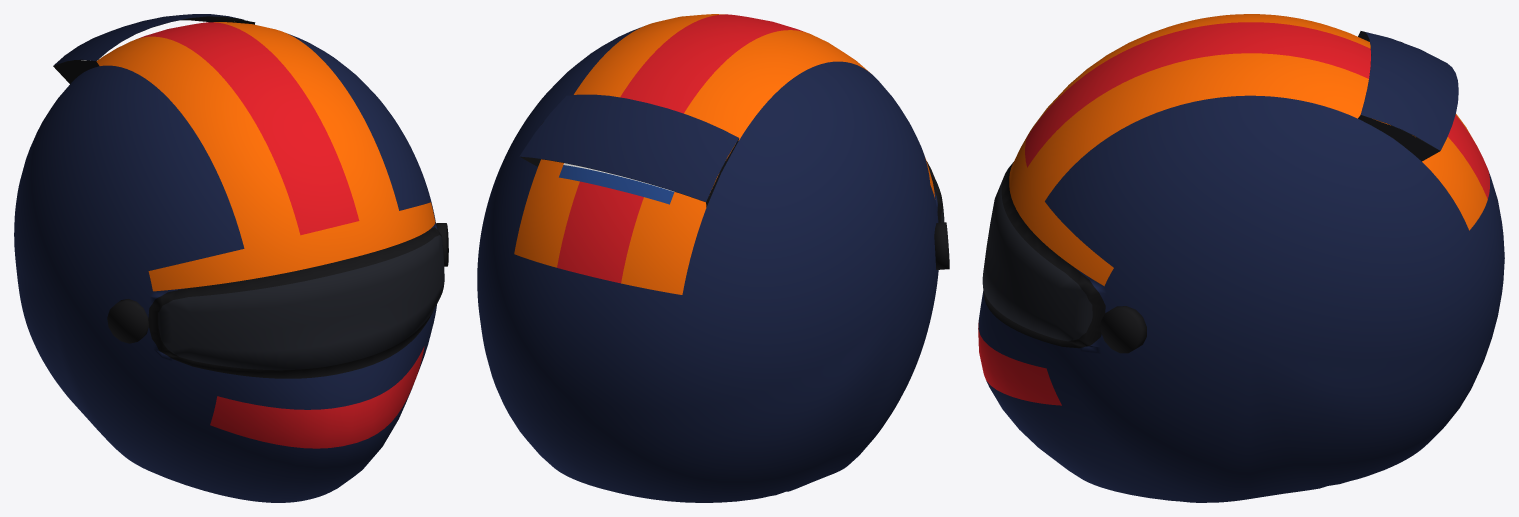
Rendered from VER.glb.
3 views of the same model, side by side, from view 1: azimuth 30°, elevation 25°; view 2: azimuth 150°, elevation 25°; view 3: azimuth 270°, elevation 25° (orthographic). The views are drawn at different scales.
Visible parts, largest first — view 1: helmet; view 2: helmet; view 3: helmet.
Boxes of the visible parts, x1,y1,x2,y2 form: helmet: (14, 14, 448, 502); helmet: (477, 14, 949, 502); helmet: (978, 14, 1504, 502).
Size of the model in its own units: 0.256 by 0.2772 by 0.3111.
